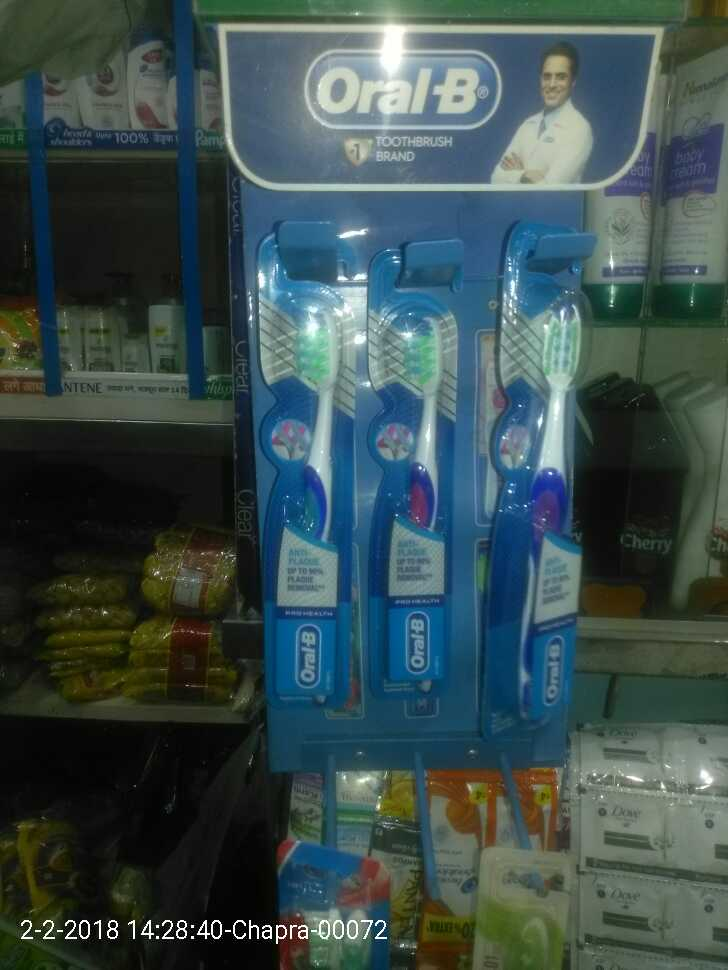oralb: (246, 232, 356, 700), (497, 216, 583, 711), (368, 236, 458, 679)
